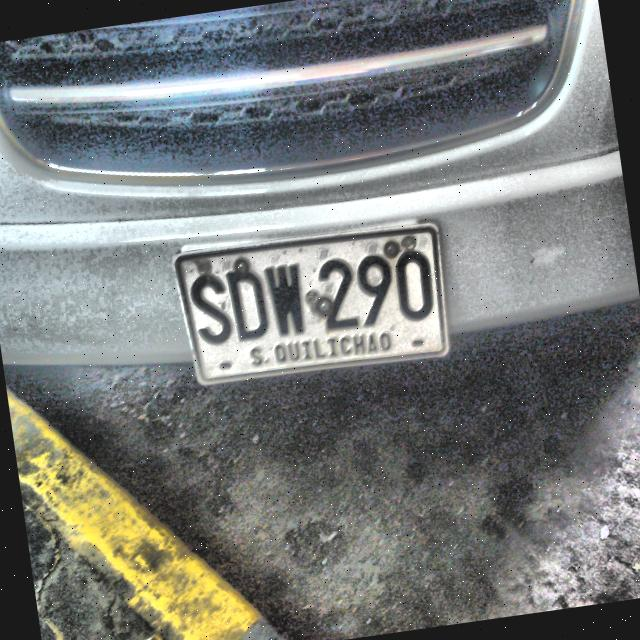0: (390, 245, 438, 325)
2: (314, 254, 362, 335)
9: (353, 250, 400, 330)
D: (225, 263, 272, 346)
S: (185, 270, 236, 349)
W: (263, 259, 309, 340)
